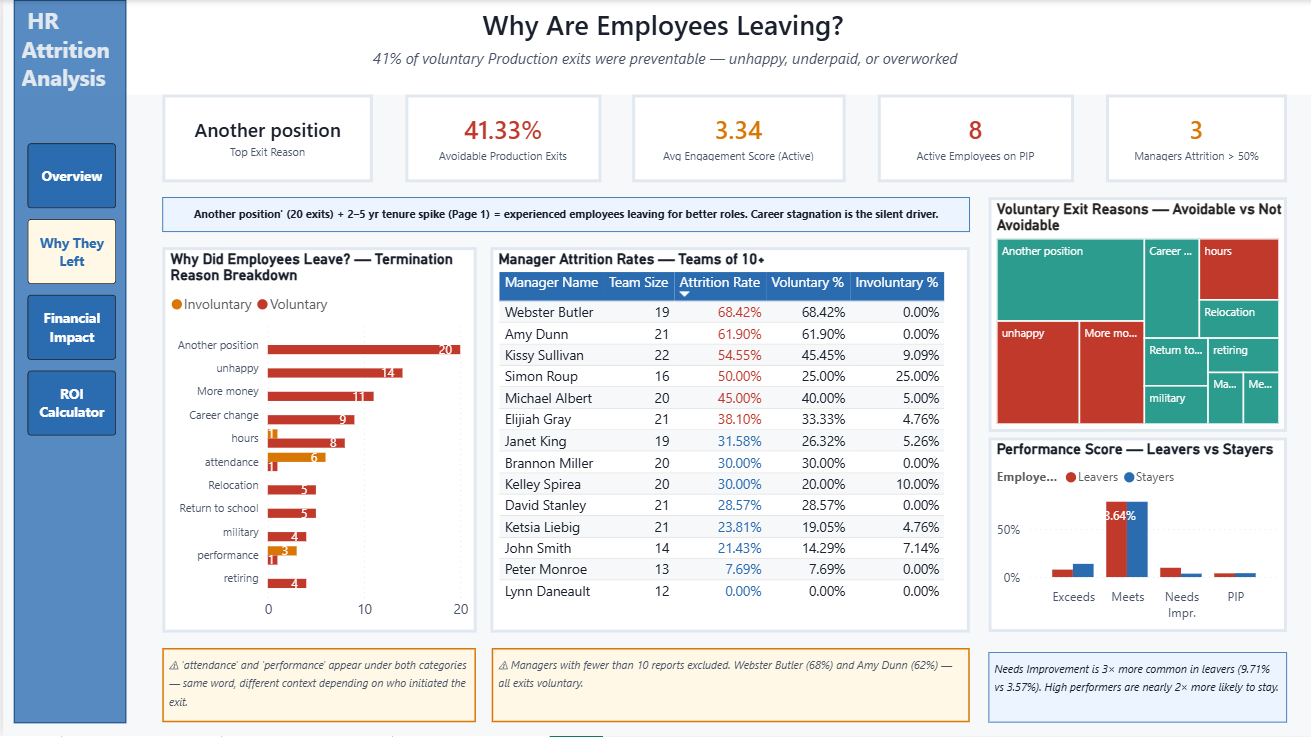

The dashboard page shown, as its layout file describes it:
{"tool":"powerbi","page":{"name":"Why They Left","canvas":[1280,720],"ordinal":1},"visuals":[{"type":"textbox","box":[11,0,1269.6,57.4],"z":0},{"type":"textbox","box":[10.6,42.2,1269.8,50.2],"z":1000},{"type":"shape","box":[10,0,110,707.1],"z":2000},{"type":"textbox","box":[13.4,0,107.2,109.5],"z":3000},{"type":"pageNavigator","box":[24.2,139.3,87.8,287.7],"z":4000},{"type":"cardVisual","fields":{"Data":["_Measures.Top_Exit_Reason"]},"box":[155.9,92.5,206.1,85.9],"z":5000},{"type":"cardVisual","fields":{"Data":["_Measures.Avoidable_Pct"]},"box":[393.1,92.5,191.6,85.9],"z":6000},{"type":"cardVisual","fields":{"Data":["_Measures.Avg_Engagement_Active"]},"box":[615.7,92.5,208.8,85.9],"z":7000},{"type":"cardVisual","fields":{"Data":["_Measures.Active_PIP"]},"box":[855.5,92.5,191.6,85.9],"z":8000},{"type":"cardVisual","fields":{"Data":["_Measures.Managers_Flagged"]},"box":[1078.2,92.5,177.1,85.9],"z":9000},{"type":"clusteredBarChart","title":"Why Did Employees Leave? — Termination Reason Breakdown","fields":{"Y":["CountNonNull(hr_master.EmpID)"],"Series":["hr_master.TermTypeSimple"],"Category":["hr_master.TermReasonShort"]},"box":[155.7,241.4,307.1,377.1],"z":10000},{"type":"textbox","box":[155.9,634.2,306.5,72.7],"z":11000},{"type":"treemap","title":"Voluntary Exit Reasons — Avoidable vs Not Avoidable","fields":{"Values":["CountNonNull(hr_master.EmpID)"],"Group":["hr_master.TermReasonShort"]},"box":[963.6,192.7,291.7,229.7],"z":12000},{"type":"clusteredColumnChart","title":"Performance Score — Leavers vs Stayers","fields":{"Y":["_Measures.Perf_Pct"],"Category":["hr_master.PerfShort"],"Series":["hr_master.EmployeeStatus_Label"]},"box":[963.2,428.1,292,190.3],"z":13000},{"type":"textbox","box":[963.2,638.2,292,68.7],"z":14000},{"type":"tableEx","title":"Manager Attrition Rates — Teams of 10+","fields":{"Values":["hr_master.ManagerName","_Measures.Total_Employees","_Measures.Attrition_Rate","_Measures.Voluntary_Rate","_Measures.Involuntary_Rate"]},"box":[477.1,241.4,468.6,377.1],"z":15000},{"type":"textbox","box":[478.3,634.2,467.7,72.7],"z":16000},{"type":"textbox","box":[155.7,192.9,790,34.3],"z":17000}]}

Visuals, with their boxes on the page's 1280x720 design canvas (x1, y1, x2, y2). These are canvas units, not pixel positions in the 1311x737 screenshot, which may show the page scaled, cropped or inside an application window:
textbox: region(11, 0, 1281, 57)
textbox: region(11, 42, 1280, 92)
shape: region(10, 0, 120, 707)
textbox: region(13, 0, 121, 110)
pageNavigator: region(24, 139, 112, 427)
cardVisual - _Measures.Top_Exit_Reason: region(156, 92, 362, 178)
cardVisual - _Measures.Avoidable_Pct: region(393, 92, 585, 178)
cardVisual - _Measures.Avg_Engagement_Active: region(616, 92, 824, 178)
cardVisual - _Measures.Active_PIP: region(856, 92, 1047, 178)
cardVisual - _Measures.Managers_Flagged: region(1078, 92, 1255, 178)
"Why Did Employees Leave? — Termination Reason Breakdown" clusteredBarChart: region(156, 241, 463, 618)
textbox: region(156, 634, 462, 707)
"Voluntary Exit Reasons — Avoidable vs Not Avoidable" treemap: region(964, 193, 1255, 422)
"Performance Score — Leavers vs Stayers" clusteredColumnChart: region(963, 428, 1255, 618)
textbox: region(963, 638, 1255, 707)
"Manager Attrition Rates — Teams of 10+" tableEx: region(477, 241, 946, 618)
textbox: region(478, 634, 946, 707)
textbox: region(156, 193, 946, 227)
